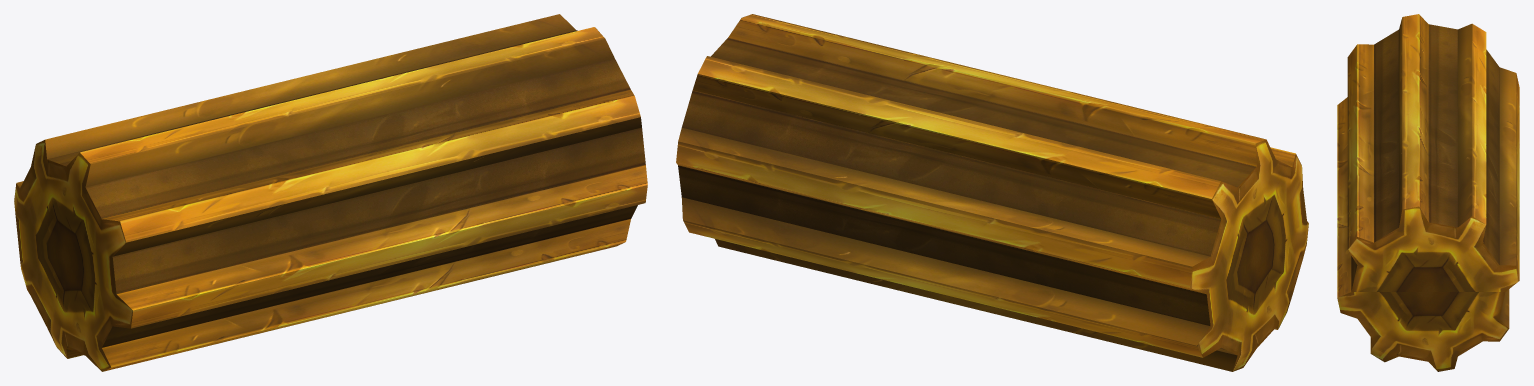
The model's file is gnomekingwormgear.obj.
The picture shows the model from 3 angles, left to right: view 1: azimuth 30°, elevation 25°; view 2: azimuth 150°, elevation 25°; view 3: azimuth 270°, elevation 25°; orthographic projection. The views are drawn at different scales.
Visible parts, largest first — view 1: Geoset0, Geoset1; view 2: Geoset0, Geoset1; view 3: Geoset0, Geoset1.
Boxes of the visible parts, bbox=[...] form: Geoset0: bbox=[16, 14, 647, 371]; Geoset1: bbox=[14, 27, 602, 371]; Geoset0: bbox=[676, 14, 1295, 371]; Geoset1: bbox=[737, 16, 1308, 371]; Geoset0: bbox=[1337, 14, 1519, 352]; Geoset1: bbox=[1337, 206, 1519, 371].
Size of the model in its own units: 23.25 by 9.05 by 9.05.
2 materials, 2 textured.
